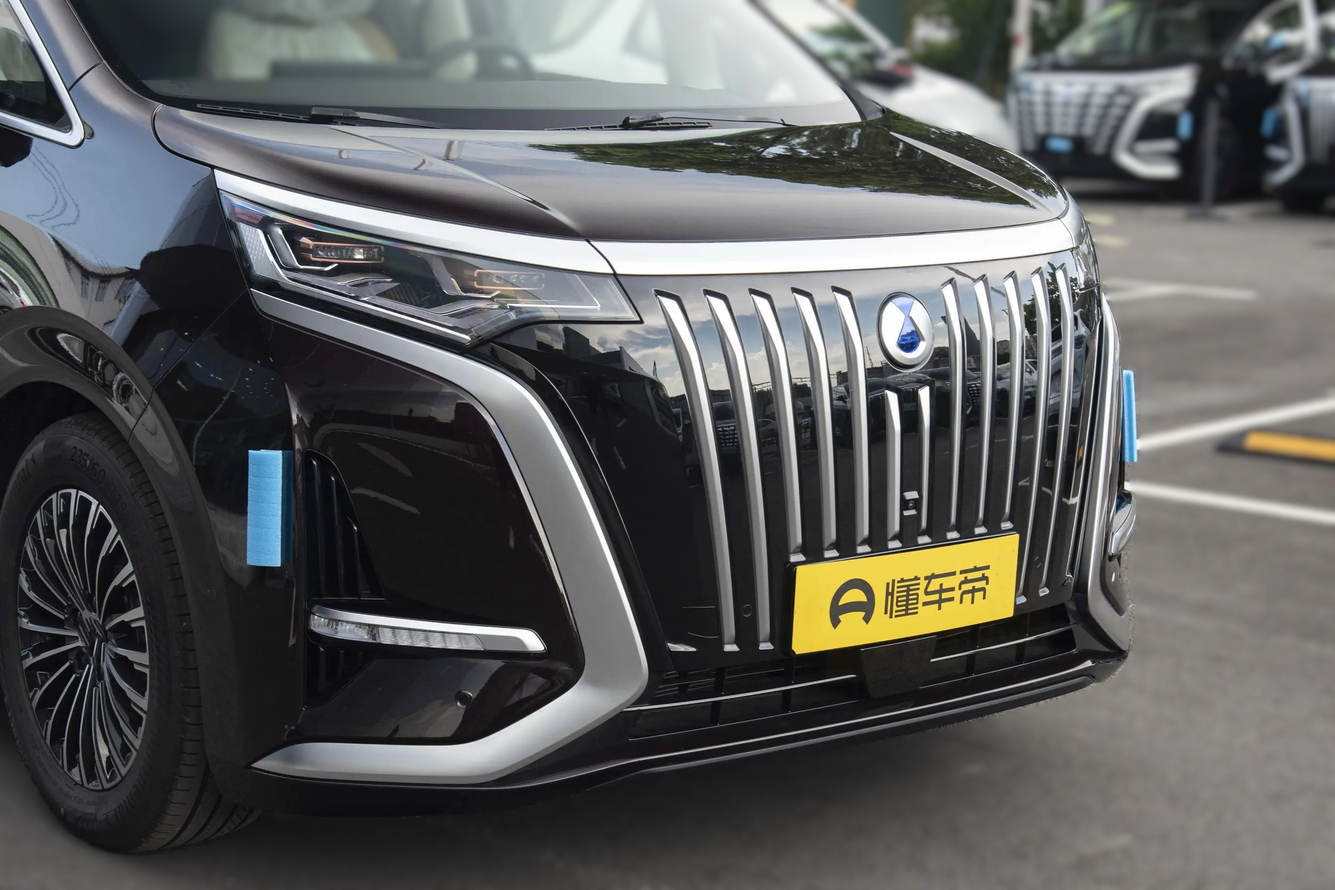DENZA: (882, 296, 933, 364)
